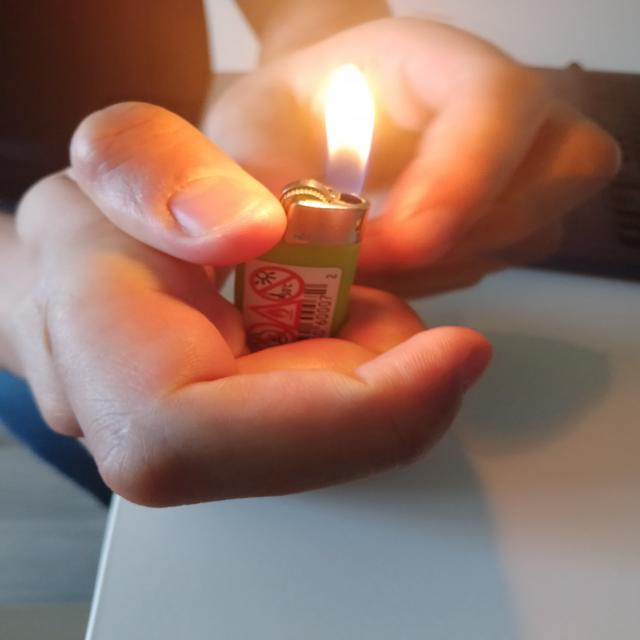lighter: (235, 181, 367, 345)
